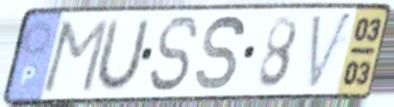8: (255, 14, 300, 91)
M: (39, 15, 113, 96)
S: (147, 14, 202, 95), (194, 13, 248, 94)
U: (90, 15, 153, 96)
V: (306, 8, 357, 94)
